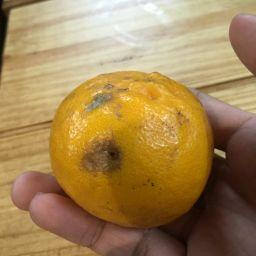Unripe: (48, 72, 213, 229)
